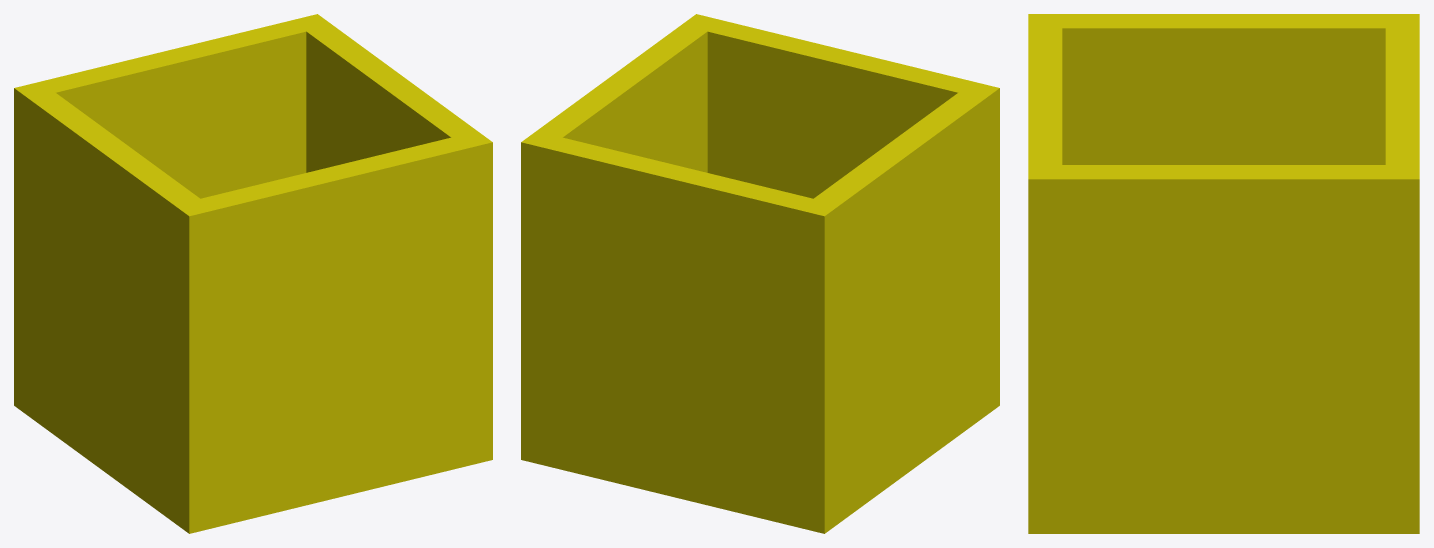
The model's file is iotax_scene.glb.
The picture shows the model from 3 angles, left to right: view 1: azimuth 30°, elevation 25°; view 2: azimuth 150°, elevation 25°; view 3: azimuth 270°, elevation 25°; orthographic projection. The views are drawn at different scales.
Visible parts, largest first — view 1: Cube.002; view 2: Cube.002; view 3: Cube.002.
Boxes of the visible parts, <box> form: Cube.002: <box>14,14,492,533</box>; Cube.002: <box>521,14,999,533</box>; Cube.002: <box>1028,14,1419,533</box>.
Size of the model in its own units: 36.49 by 36.49 by 36.49.
